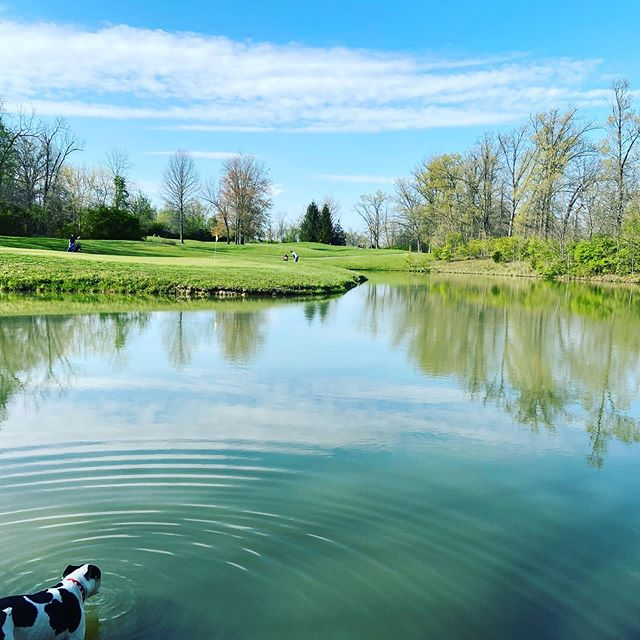animal: (1, 555, 118, 640)
grass: (1, 234, 359, 292)
river: (29, 278, 631, 640)
sky: (11, 1, 640, 150)
tree: (507, 106, 589, 234), (1, 107, 74, 221), (411, 156, 498, 249), (586, 82, 640, 228), (204, 150, 270, 252), (155, 148, 205, 248), (351, 175, 396, 258), (295, 196, 339, 242)
